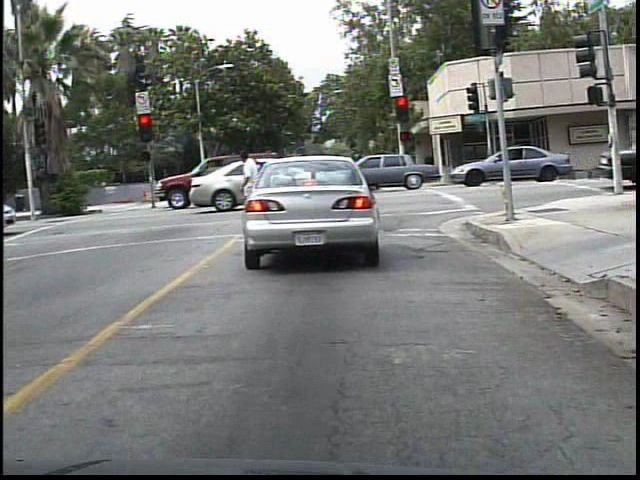person: (228, 149, 267, 230)
